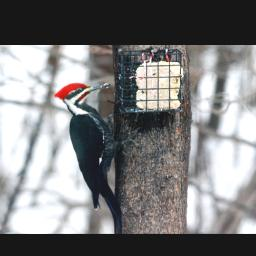Woodpecker: (54, 79, 142, 230)
